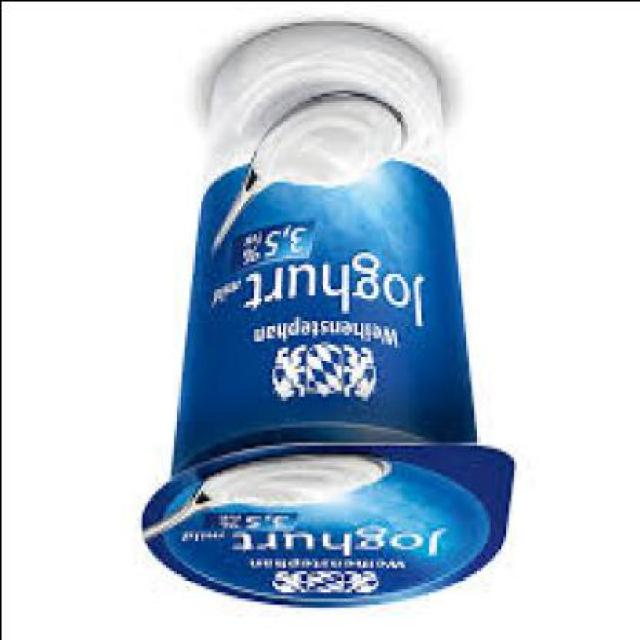PLASTIC: (143, 22, 515, 609)
